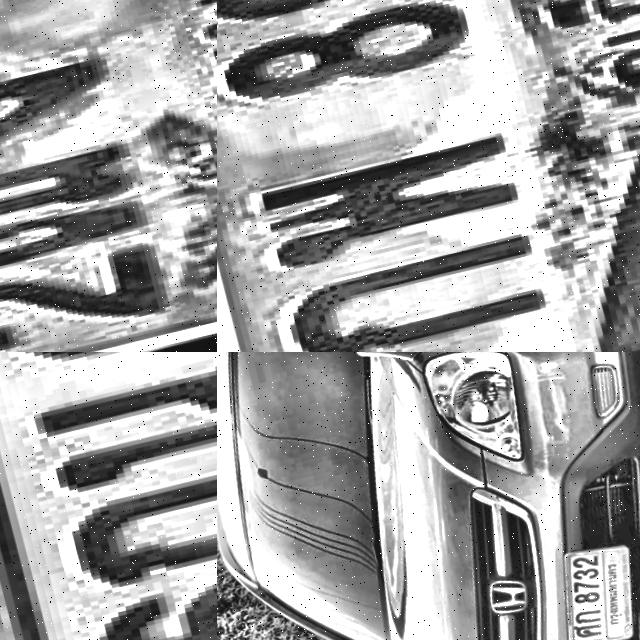license-plate: (217, 0, 640, 352), (0, 0, 217, 352), (0, 352, 217, 640), (536, 539, 640, 640)
